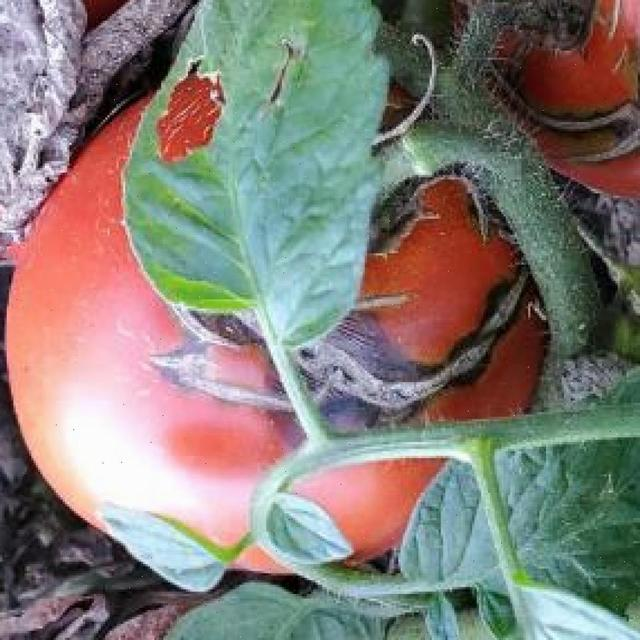Cracking Fruit: (89, 76, 382, 255)
